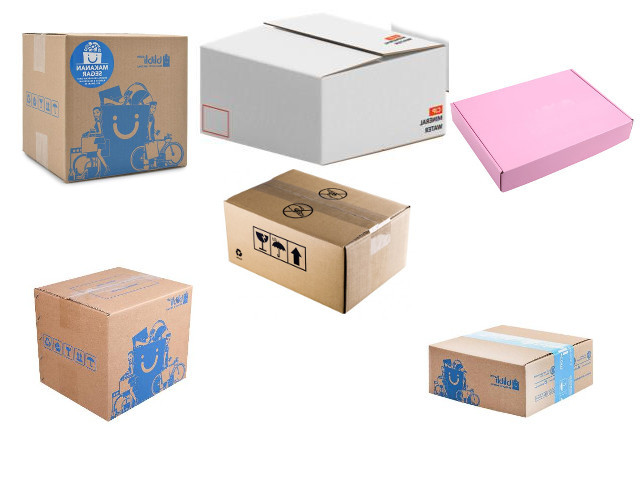cardboard: (200, 13, 446, 166), (222, 168, 410, 312), (23, 32, 187, 181), (34, 267, 186, 418), (452, 69, 636, 193), (429, 323, 591, 415)
